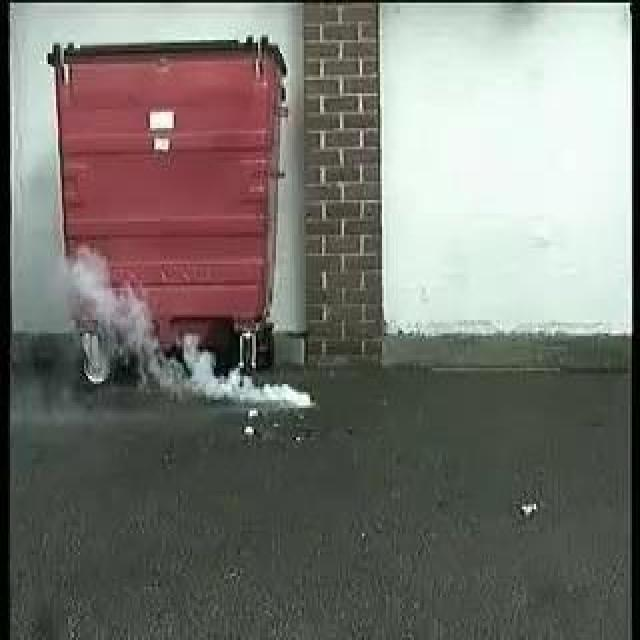Smoke: (67, 249, 311, 404)
